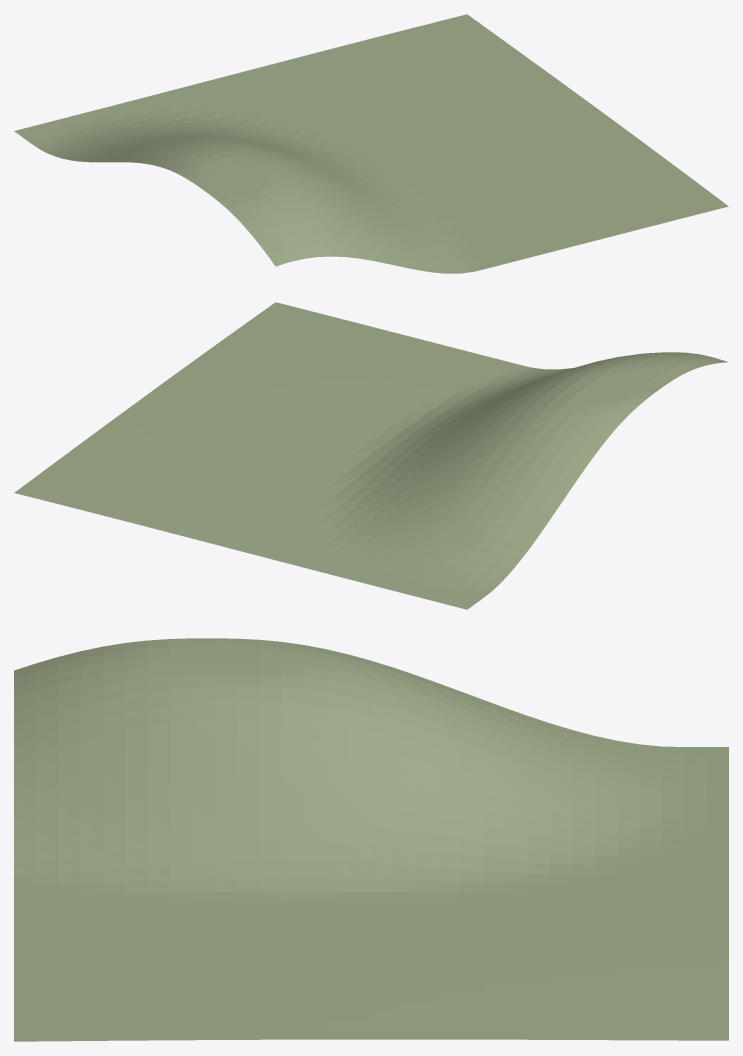
File: desert-22-28.glb
3 views of the same model, one above another, from view 1: azimuth 30°, elevation 25°; view 2: azimuth 150°, elevation 25°; view 3: azimuth 270°, elevation 25° (orthographic). The views are drawn at different scales.
Visible parts, largest first — view 1: desert-22-28; view 2: desert-22-28; view 3: desert-22-28.
Part boxes in pixels (box(x1,y1,x2,y2)): desert-22-28: box(14, 14, 728, 273); desert-22-28: box(14, 302, 728, 609); desert-22-28: box(14, 638, 728, 1041).
Bounding box in the file's own units: 512 × 87.34 × 512.
